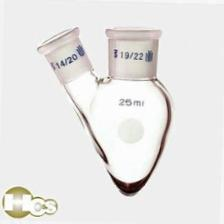Pear shaped flask: (31, 26, 182, 195)
